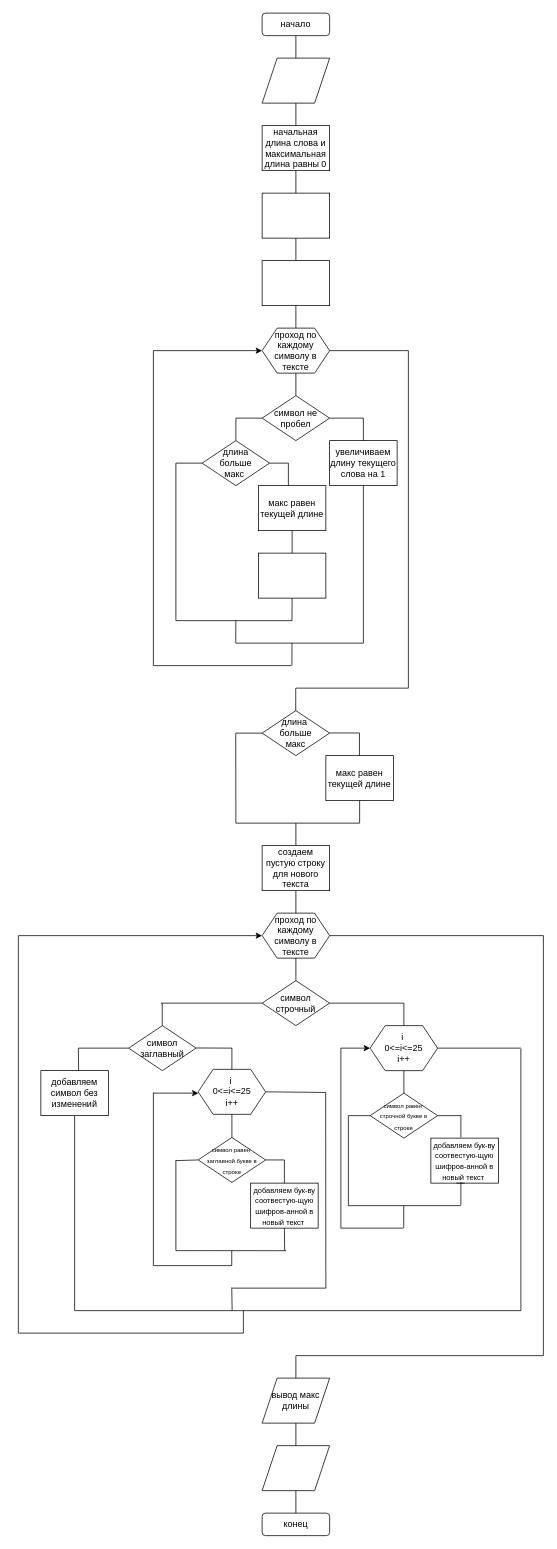
The diagram is 557 pixels wide and 1549 high, and some of its shapes have lost their labels. The shapes that lost their labels are listed below. From the top down, each one's centre as x and y in pixels, then its label:
(x=295, y=80): ввод текста
(x=295, y=215): строка,содержа - щая в себе все прописные буквы
(x=295, y=283): строка,содержа -щая в себе все заглавные буквы
(x=292, y=575): длина слова обнуляется
(x=295, y=1468): вывод нового текста
